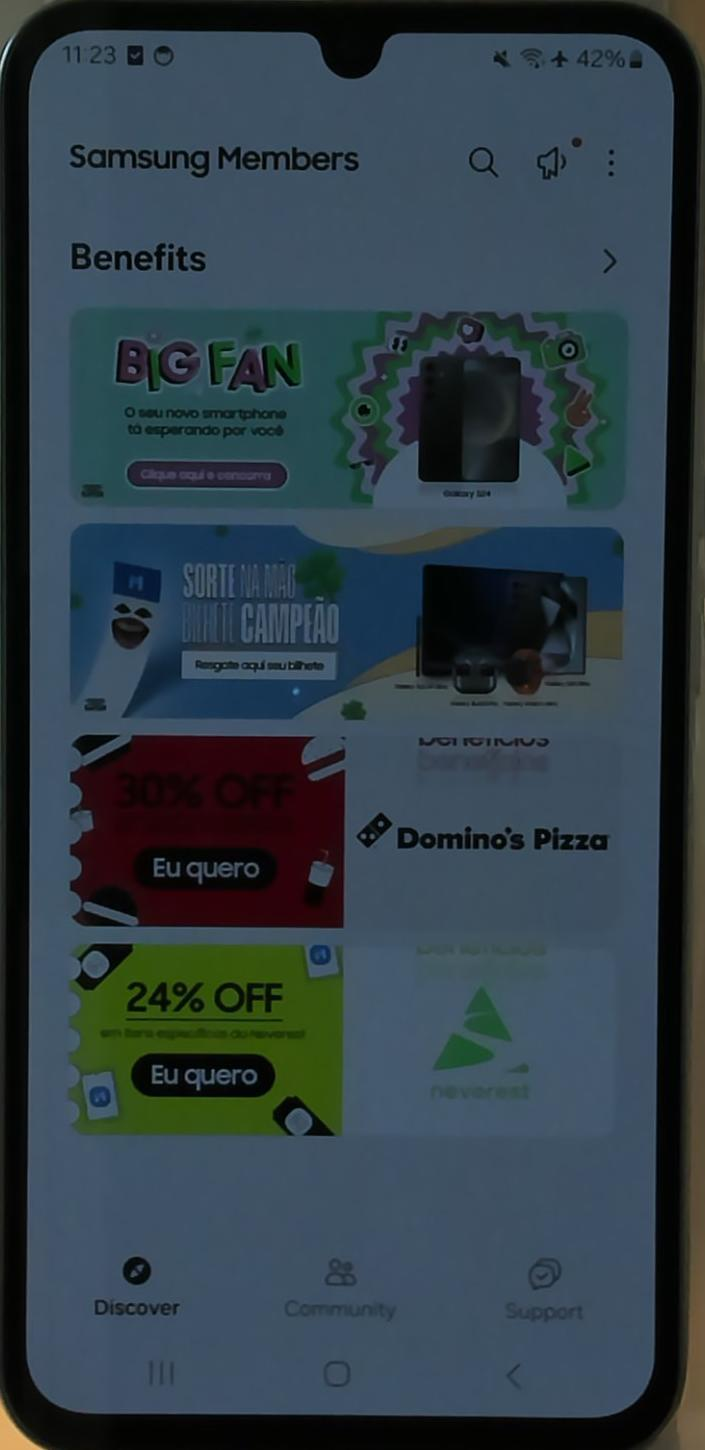CommunBotton: (63, 300, 634, 521), (62, 936, 627, 1150), (61, 728, 638, 936), (69, 519, 635, 719), (273, 1249, 406, 1332), (84, 1238, 188, 1326), (494, 1241, 594, 1332), (532, 132, 588, 188), (459, 142, 510, 187), (139, 1343, 185, 1391), (494, 1355, 538, 1400), (318, 1355, 360, 1393), (593, 237, 623, 282)
menu: (603, 140, 623, 186)
